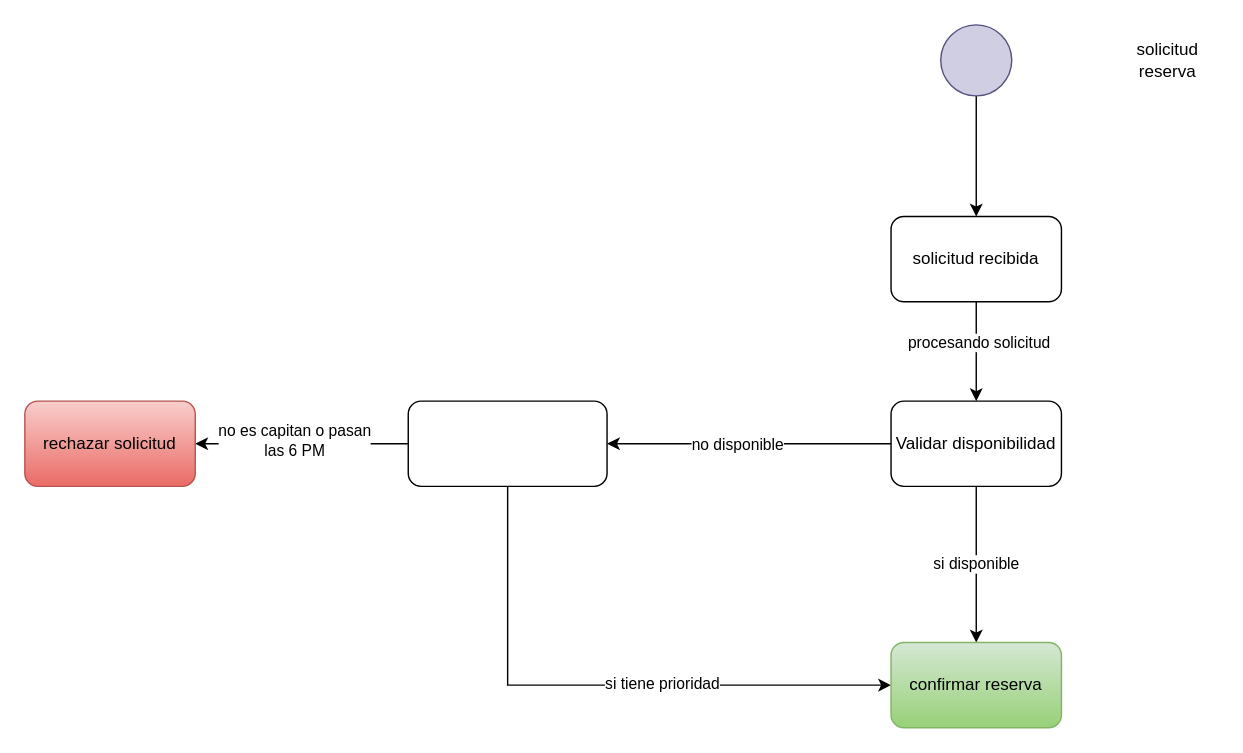
The diagram is 1243 pixels wide and 753 high, and some of its shapes have lost their labels. The centre of each missing label's shape, as x and y in pixels:
start: point (975, 59)
validar prioridad: point (507, 443)
